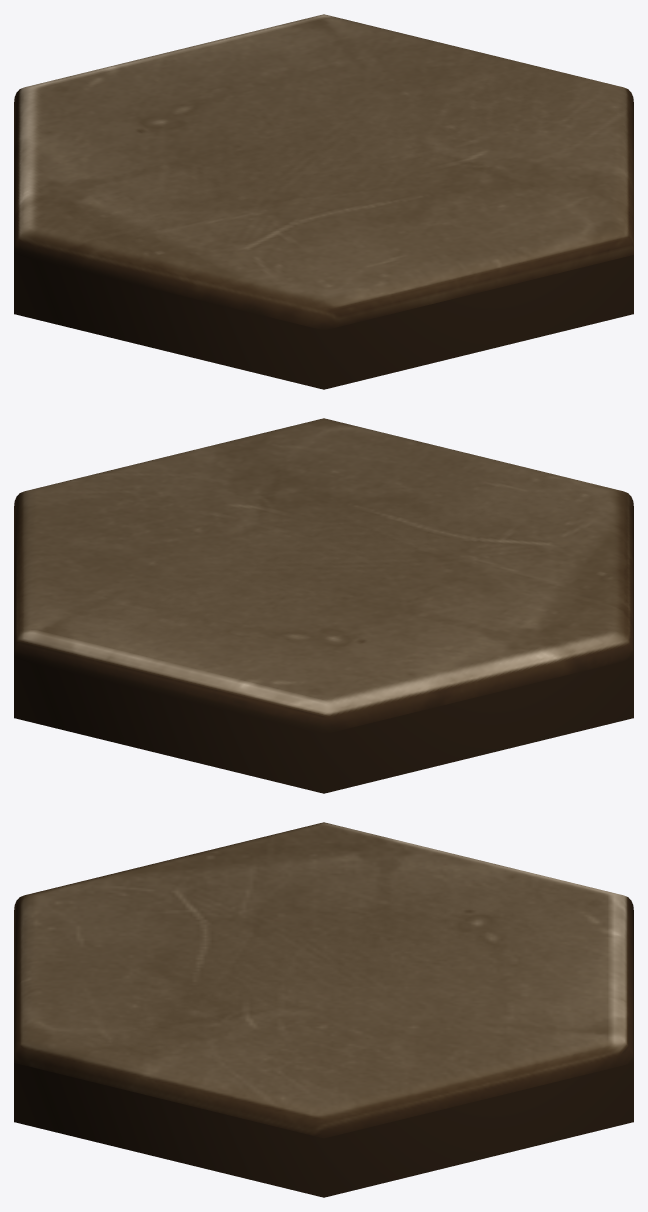
File: Mesh_FloorTiles_01.FBX
3 views of the same model, one above another, from view 1: azimuth 30°, elevation 25°; view 2: azimuth 150°, elevation 25°; view 3: azimuth 270°, elevation 25° (orthographic).
Visible parts, largest first — view 1: Mesh_FloorTiles_01; view 2: Mesh_FloorTiles_01; view 3: Mesh_FloorTiles_01.
Boxes of the visible parts, bbox=[...] form: Mesh_FloorTiles_01: bbox=[14, 14, 633, 389]; Mesh_FloorTiles_01: bbox=[14, 418, 633, 793]; Mesh_FloorTiles_01: bbox=[14, 822, 633, 1197].
Bounding box in the file's own units: 20 × 2.5 × 17.32.
